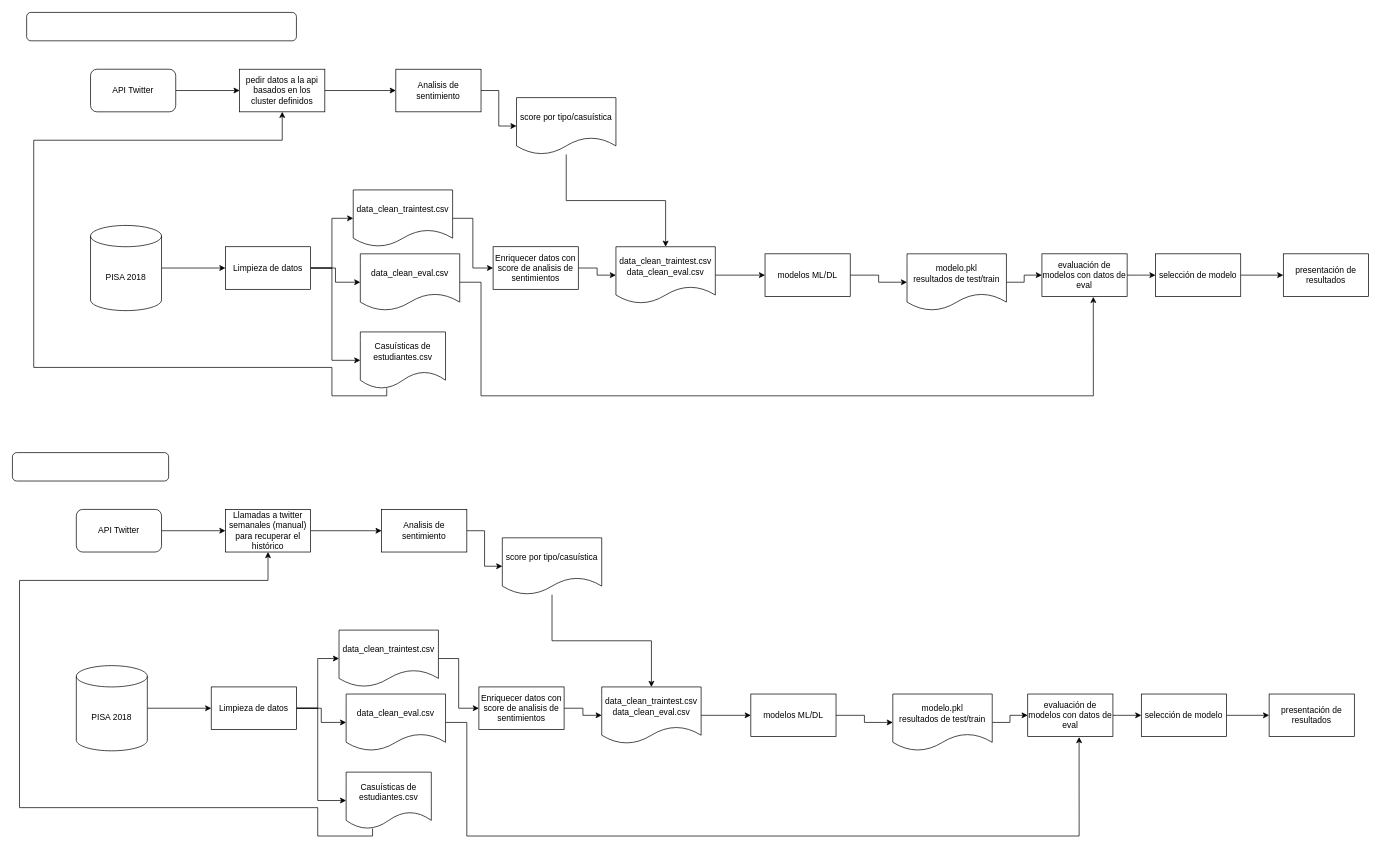
Some shapes in this 1381 by 854 pixel diagram are drawn without their labels. The centre of each missing label's shape, as x and y in pixels:
"Arquitectura final" belongs at [90,466].
"Boceto arquitectura" belongs at [161,26].
